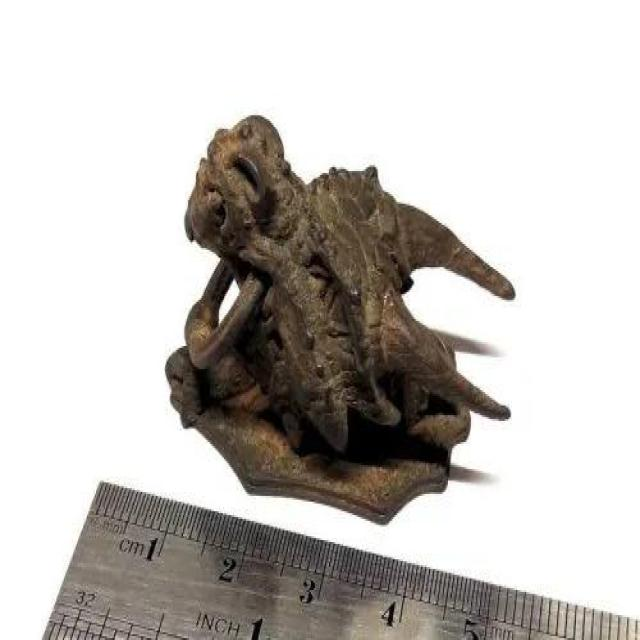Without deffect: (151, 105, 512, 518)
